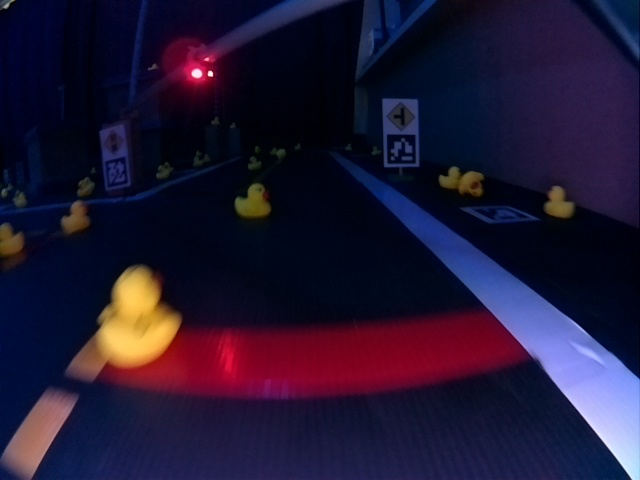Duckie: (98, 266, 182, 365), (236, 184, 269, 218), (61, 200, 91, 235), (546, 186, 575, 218), (0, 222, 23, 256), (459, 171, 483, 197), (439, 166, 460, 189), (78, 181, 92, 196), (248, 156, 261, 169), (156, 166, 169, 179), (277, 148, 286, 158), (211, 116, 220, 125), (373, 145, 381, 154), (194, 157, 203, 165), (345, 143, 352, 150)
Intersection sign: (386, 99, 418, 132)
QR code: (461, 206, 541, 224), (386, 134, 418, 167), (105, 157, 128, 188)
Signal sign: (101, 129, 124, 156)
Traffic light: (186, 45, 213, 82)
